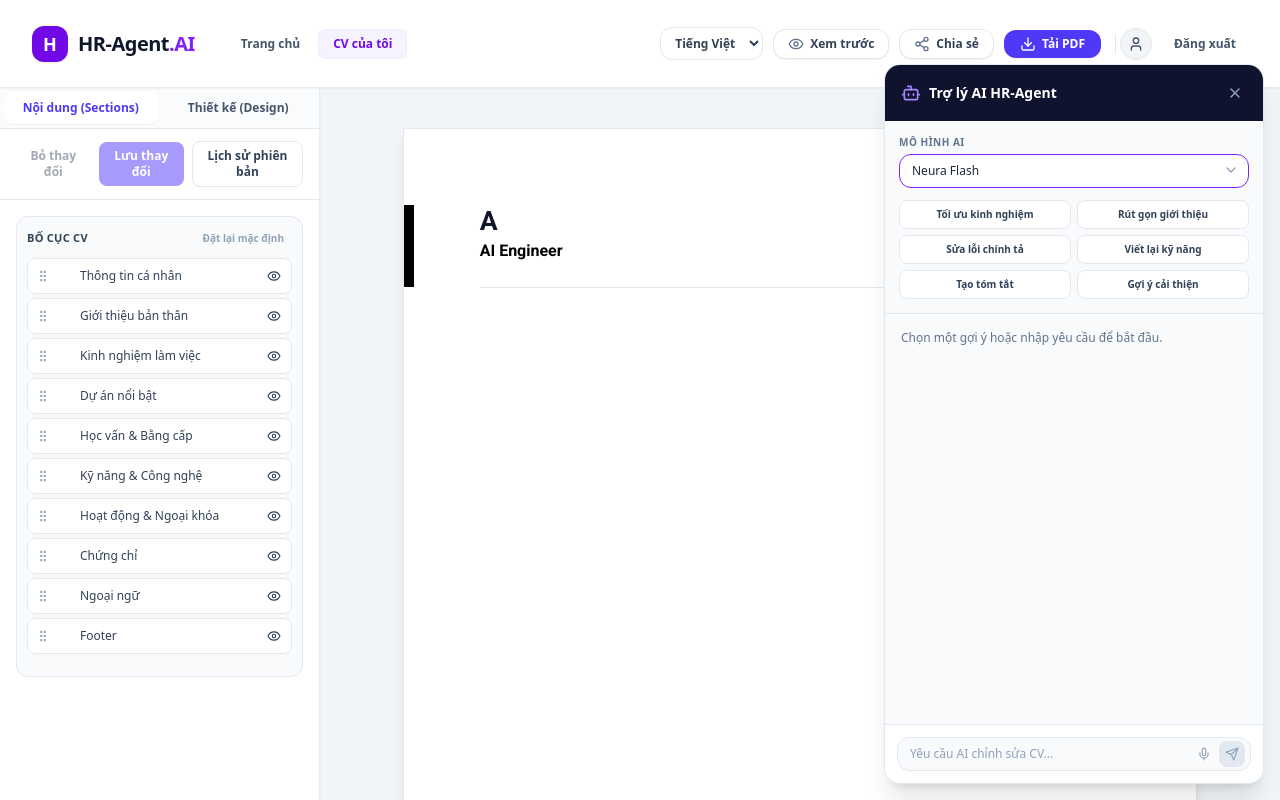
nút "Xem trước" trên header trình sửa › mở popup xem trước ngay tại chỗ
Click the button "Xem trước".
click(831, 44)  # box [773,28,889,58]
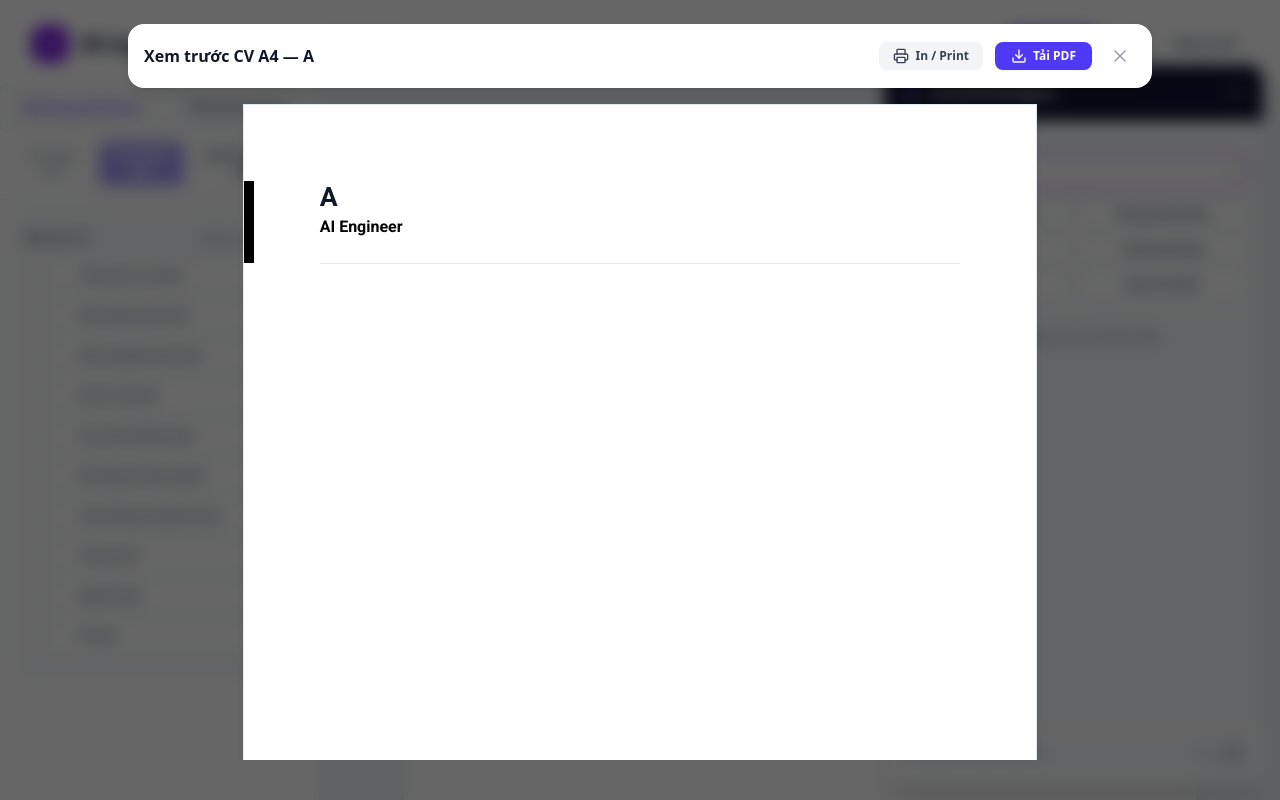
Expected: the dialog "Xem trước CV A4 — A In / Print Tải PDF A AI Engineer" is shown
